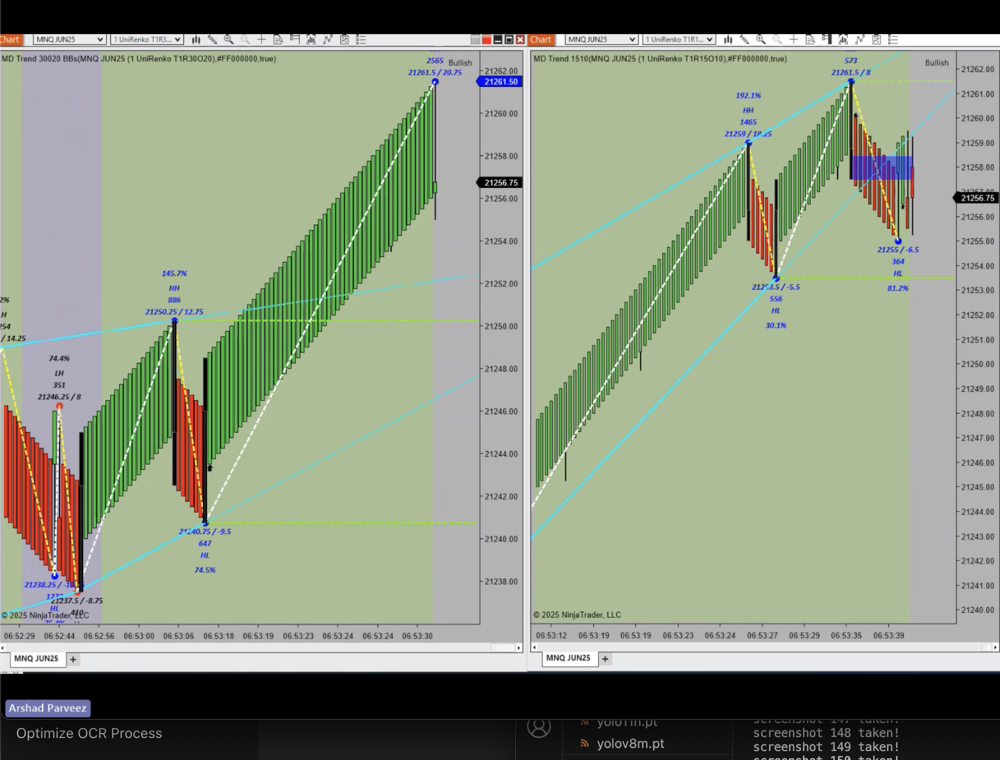HH: (164, 278, 195, 299), (737, 100, 761, 120)
HL: (761, 304, 790, 323), (193, 547, 222, 565), (889, 266, 913, 285)
LH: (47, 367, 74, 385)
